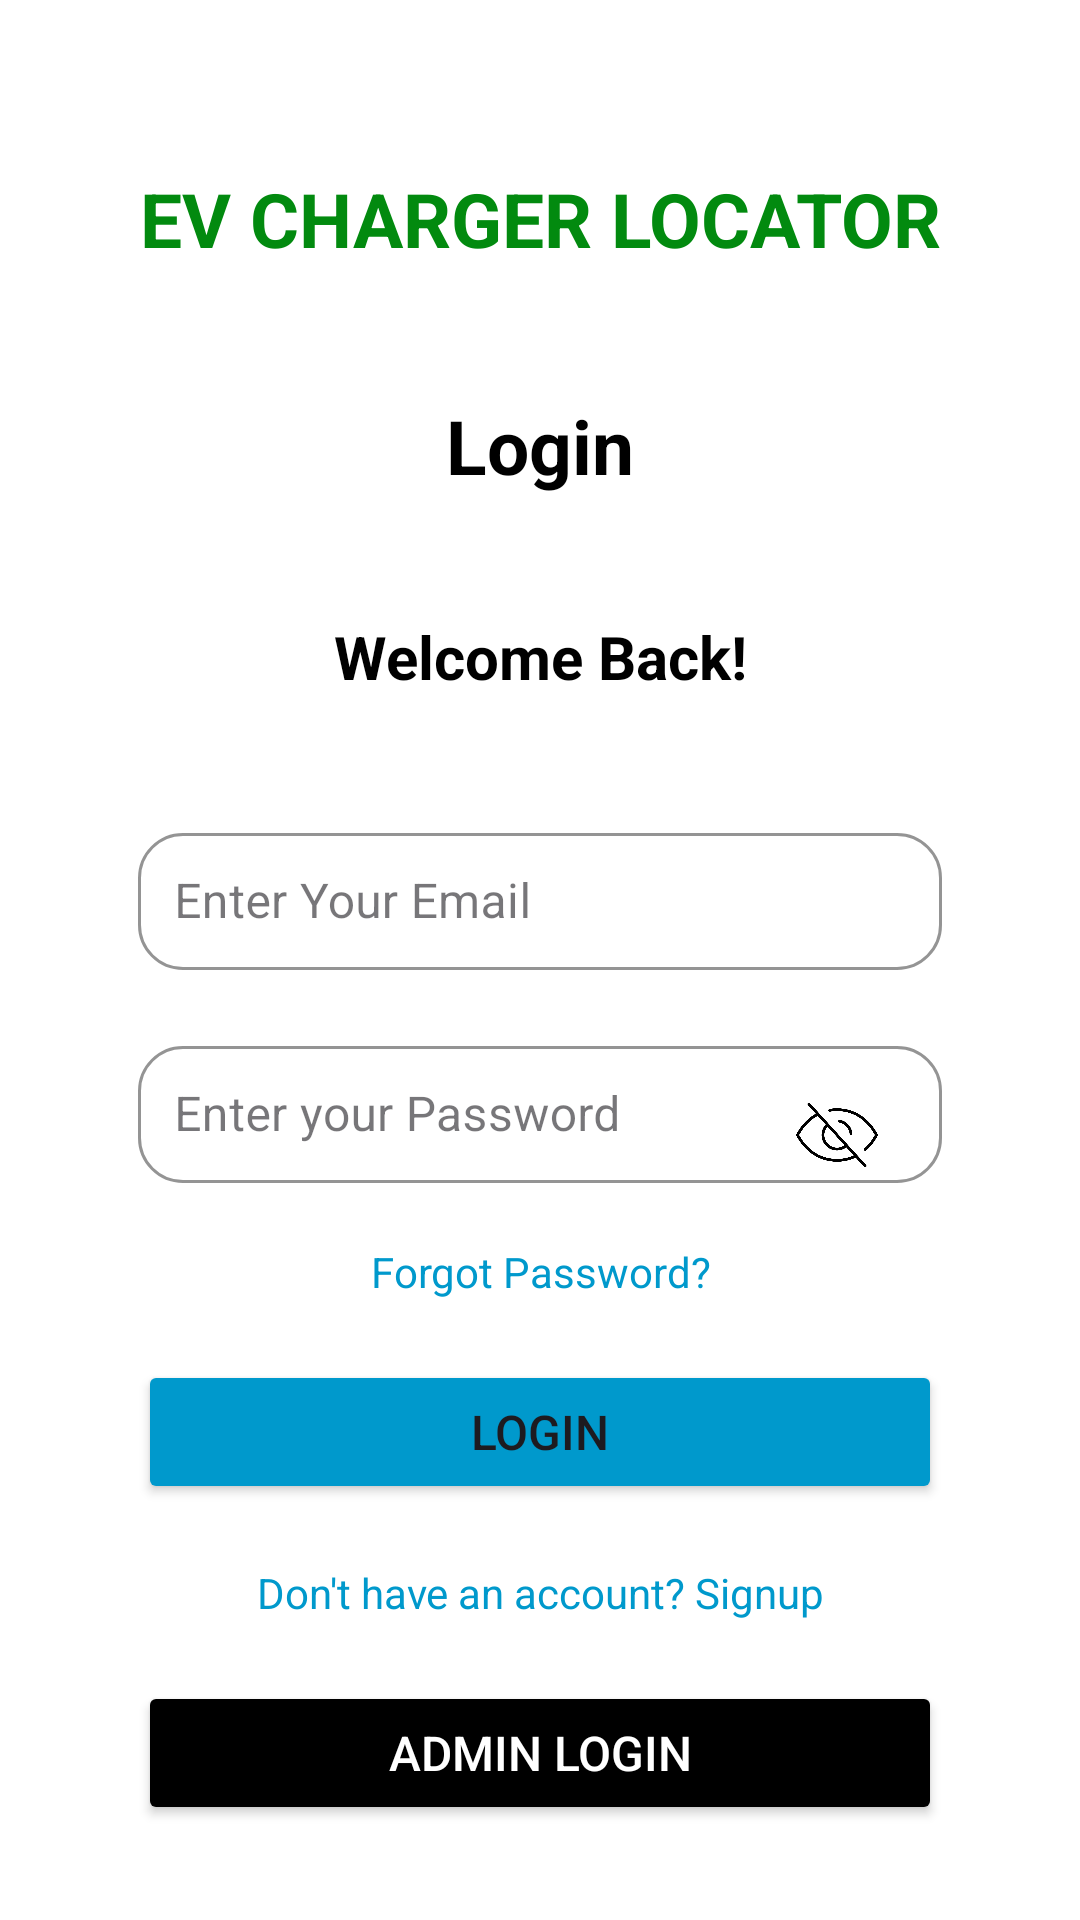

Point at icon controls on the screen. Image size 1080px x 1920px, points as (x=x, y=y).
Show Password: (x=837, y=1135)
